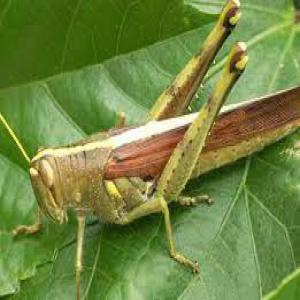locust: (24, 9, 300, 259)
